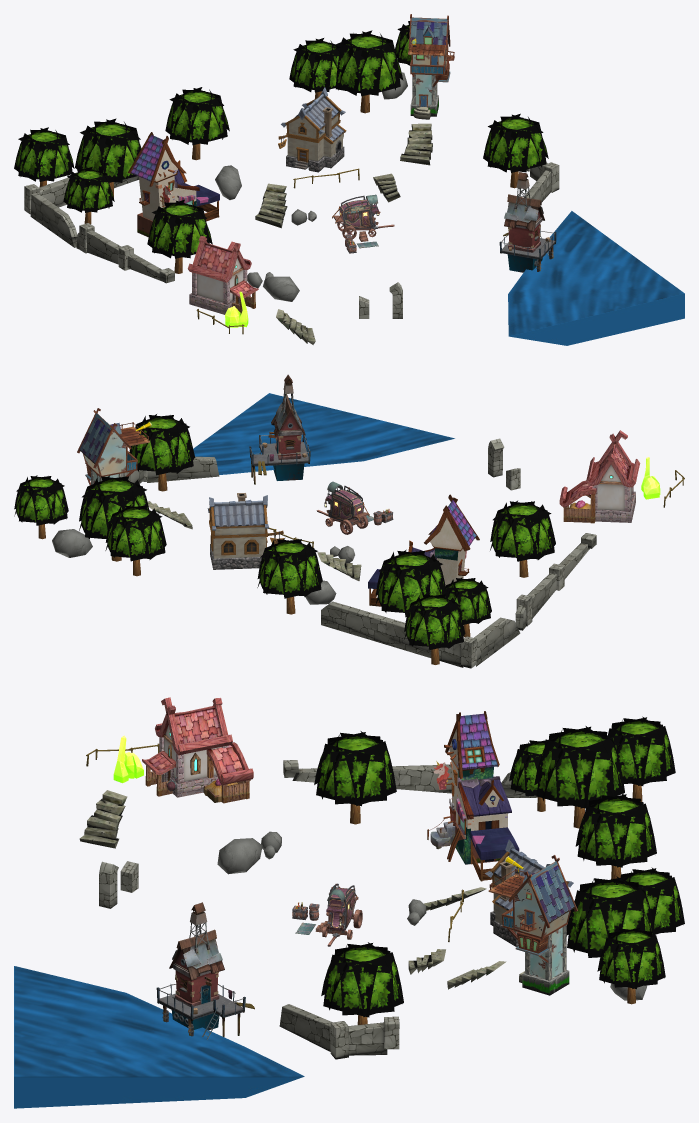
The picture shows the model from 3 angles, top to bottom: view 1: azimuth 30°, elevation 25°; view 2: azimuth 150°, elevation 25°; view 3: azimuth 270°, elevation 25°; orthographic projection. The views are drawn at different scales.
Visible parts, largest first — view 1: foliage_foliage_0, water_water_0, earth_props_earth_props_0, shelter_for_magical_creatures_shelter_for_magical_creatures_, dragon_house_dragon_house_0, blacksmith's_house_blacksmith's_house_0, travell_house_travell_house_0, hermits_house_hermits_house_0, Object001, potion_master_potion_master_0, tree_trunk_tree_trunk_0; view 2: foliage_foliage_0, earth_props_earth_props_0, water_water_0, dragon_house_dragon_house_0, blacksmith's_house_blacksmith's_house_0, Object001, travell_house_travell_house_0, hermits_house_hermits_house_0, shelter_for_magical_creatures_shelter_for_magical_creatures_, potion_master_potion_master_0, tree_trunk_tree_trunk_0, Object002; view 3: foliage_foliage_0, water_water_0, earth_props_earth_props_0, shelter_for_magical_creatures_shelter_for_magical_creatures_, dragon_house_dragon_house_0, travell_house_travell_house_0, hermits_house_hermits_house_0, Object001, blacksmith's_house_blacksmith's_house_0, potion_master_potion_master_0, tree_trunk_tree_trunk_0, Object002 (+2 smaller).
Boxes of the visible parts, left/top/right/bottom form: foliage_foliage_0: left=14, top=21, right=548, bottom=212; water_water_0: left=508, top=211, right=684, bottom=345; earth_props_earth_props_0: left=24, top=72, right=559, bottom=344; shelter_for_magical_creatures_shelter_for_magical_creatures_: left=128, top=132, right=219, bottom=237; dragon_house_dragon_house_0: left=187, top=236, right=258, bottom=314; blacksmith's_house_blacksmith's_house_0: left=278, top=87, right=346, bottom=172; travell_house_travell_house_0: left=408, top=14, right=454, bottom=119; hermits_house_hermits_house_0: left=499, top=172, right=556, bottom=272; Object001: left=147, top=199, right=212, bottom=258; potion_master_potion_master_0: left=332, top=194, right=394, bottom=239; tree_trunk_tree_trunk_0: left=39, top=91, right=518, bottom=273; foliage_foliage_0: left=14, top=414, right=491, bottom=650; earth_props_earth_props_0: left=52, top=438, right=684, bottom=668; water_water_0: left=193, top=393, right=454, bottom=474; dragon_house_dragon_house_0: left=559, top=430, right=640, bottom=523; blacksmith's_house_blacksmith's_house_0: left=207, top=493, right=283, bottom=569; Object001: left=490, top=500, right=555, bottom=561; travell_house_travell_house_0: left=77, top=408, right=151, bottom=485; hermits_house_hermits_house_0: left=249, top=374, right=310, bottom=484; shelter_for_magical_creatures_shelter_for_magical_creatures_: left=368, top=494, right=479, bottom=606; potion_master_potion_master_0: left=316, top=481, right=369, bottom=534; tree_trunk_tree_trunk_0: left=38, top=473, right=528, bottom=664; Object002: left=641, top=457, right=660, bottom=499; foliage_foliage_0: left=321, top=716, right=684, bottom=1017; water_water_0: left=14, top=966, right=304, bottom=1108; earth_props_earth_props_0: left=79, top=743, right=647, bottom=1059; shelter_for_magical_creatures_shelter_for_magical_creatures_: left=427, top=711, right=519, bottom=881; dragon_house_dragon_house_0: left=142, top=697, right=253, bottom=803; travell_house_travell_house_0: left=488, top=855, right=577, bottom=995; hermits_house_hermits_house_0: left=156, top=902, right=245, bottom=1036; Object001: left=314, top=731, right=396, bottom=806; blacksmith's_house_blacksmith's_house_0: left=485, top=839, right=573, bottom=946; potion_master_potion_master_0: left=322, top=883, right=362, bottom=946; tree_trunk_tree_trunk_0: left=350, top=784, right=642, bottom=1024; Object002: left=113, top=735, right=143, bottom=783.
Size of the model in its own units: 4204 by 1544 by 4397.
